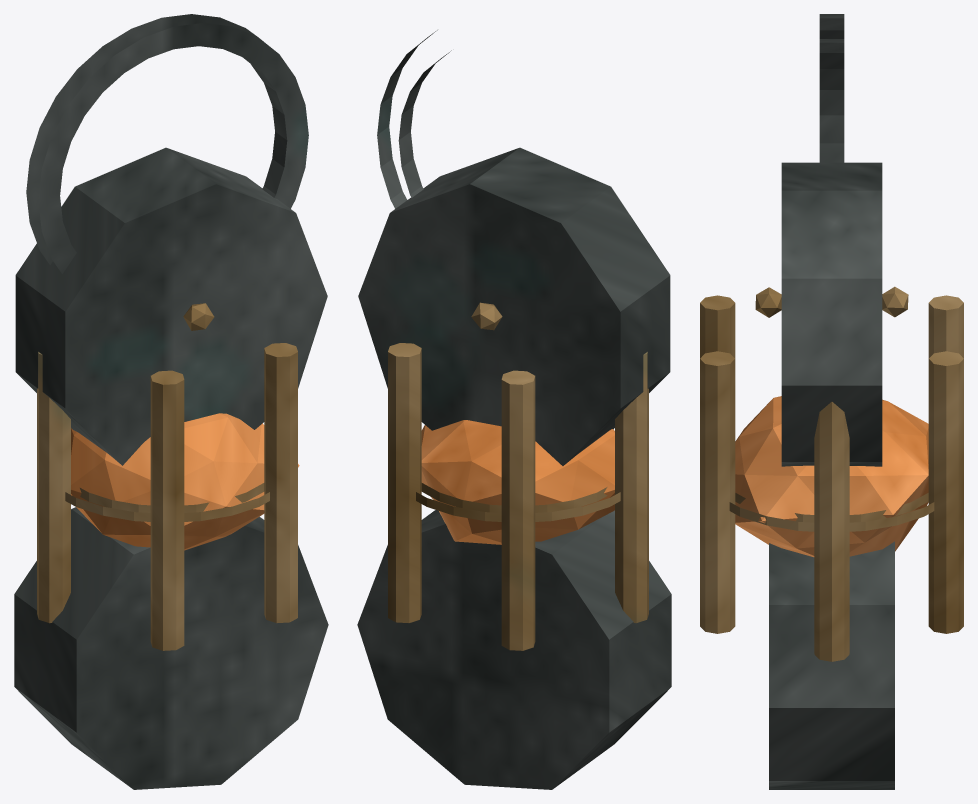
File: 0917_lantern_17.glb
The picture shows the model from 3 angles, left to right: view 1: azimuth 30°, elevation 25°; view 2: azimuth 150°, elevation 25°; view 3: azimuth 270°, elevation 25°; orthographic projection.
Visible parts, largest first — view 1: iron, brass, amber; view 2: iron, brass, amber; view 3: iron, brass, amber.
Part boxes in pixels (box(x1,y1,x2,y2)): iron: box(14, 14, 328, 789); brass: box(37, 303, 297, 650); amber: box(71, 413, 299, 550); iron: box(357, 30, 671, 789); brass: box(388, 302, 648, 650); amber: box(421, 420, 614, 544); iron: box(769, 14, 894, 789); brass: box(700, 286, 963, 661); amber: box(735, 396, 928, 557).
Size of the model in its own units: 0.5 by 1.32 by 0.4197.
3 materials, 3 textured.
